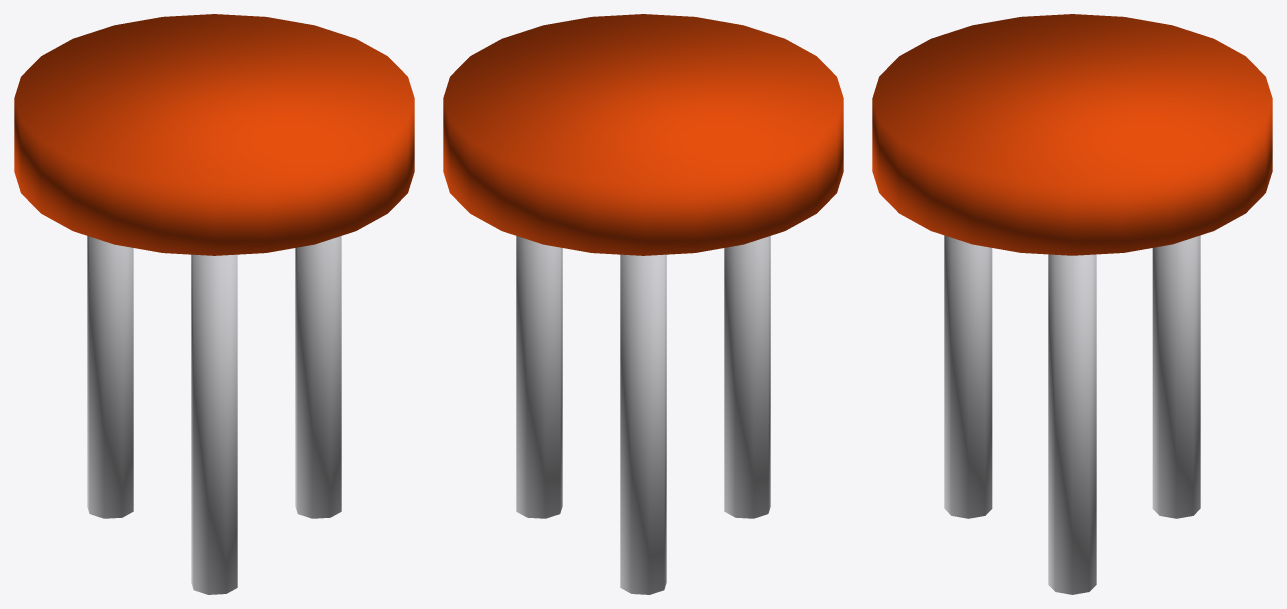
The model's file is stool_round.glb.
3 renders of one model, left to right at view 1: azimuth 30°, elevation 25°; view 2: azimuth 150°, elevation 25°; view 3: azimuth 270°, elevation 25°, orthographic.
Visible parts, largest first — view 1: Cylinder, Cylinder.003, Cylinder.001, Cylinder.002; view 2: Cylinder, Cylinder.002, Cylinder.001, Cylinder.003; view 3: Cylinder, Cylinder.001, Cylinder.002, Cylinder.003.
Part boxes in pixels (<box>): Cylinder: <box>14,14,414,255</box>; Cylinder.003: <box>191,254,237,594</box>; Cylinder.001: <box>295,236,341,518</box>; Cylinder.002: <box>87,236,133,518</box>; Cylinder: <box>443,14,843,255</box>; Cylinder.002: <box>620,254,666,594</box>; Cylinder.001: <box>516,236,562,518</box>; Cylinder.003: <box>724,236,770,518</box>; Cylinder: <box>872,14,1272,255</box>; Cylinder.001: <box>1048,254,1096,594</box>; Cylinder.002: <box>1152,235,1200,518</box>; Cylinder.003: <box>944,235,992,518</box>.
Bounding box in the file's own units: 0.1 × 0.12 × 0.1.
